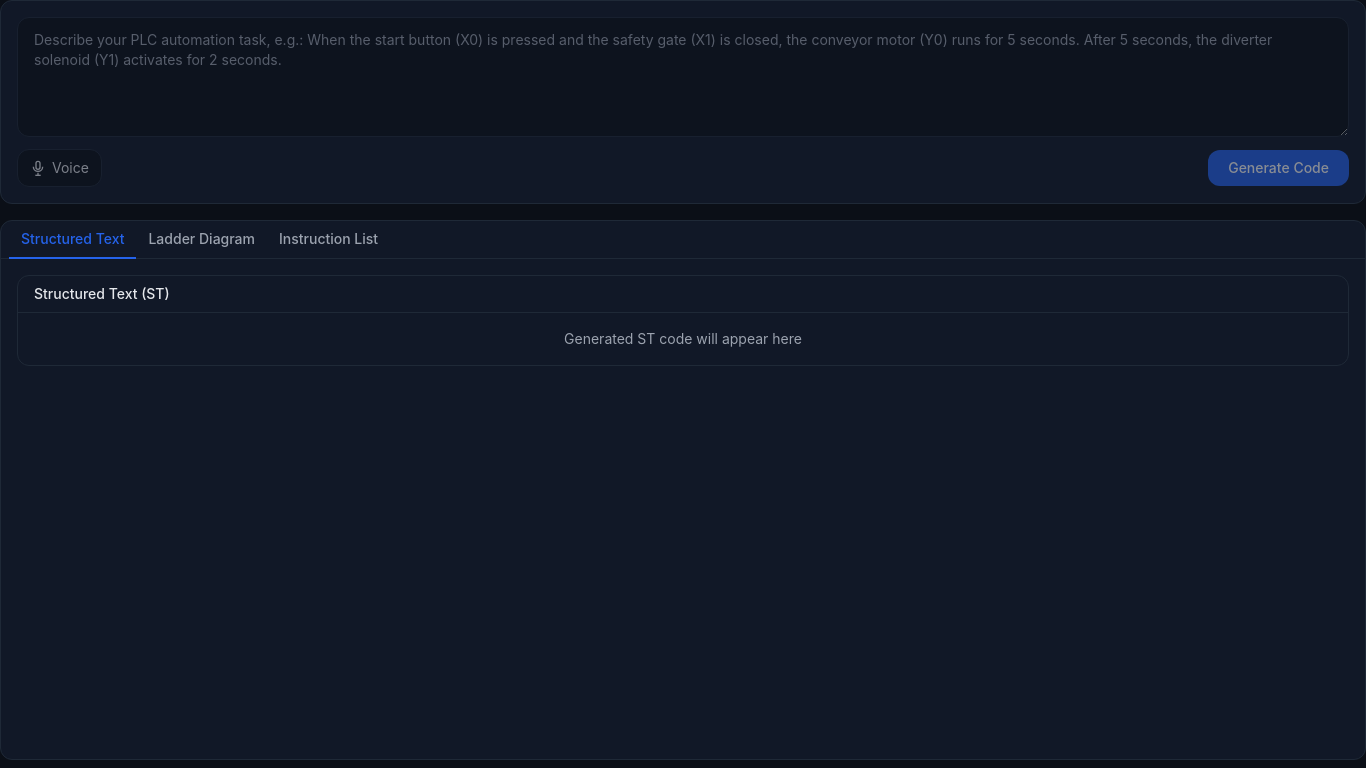
it: CodeGenerationPanel — Tabs + Maximize modal (M10.2.1) › Maximize modal › closes when the Close button is clicked
Click the tab with test id "tab-ld" at (202, 240), box 136,221 -> 267,259
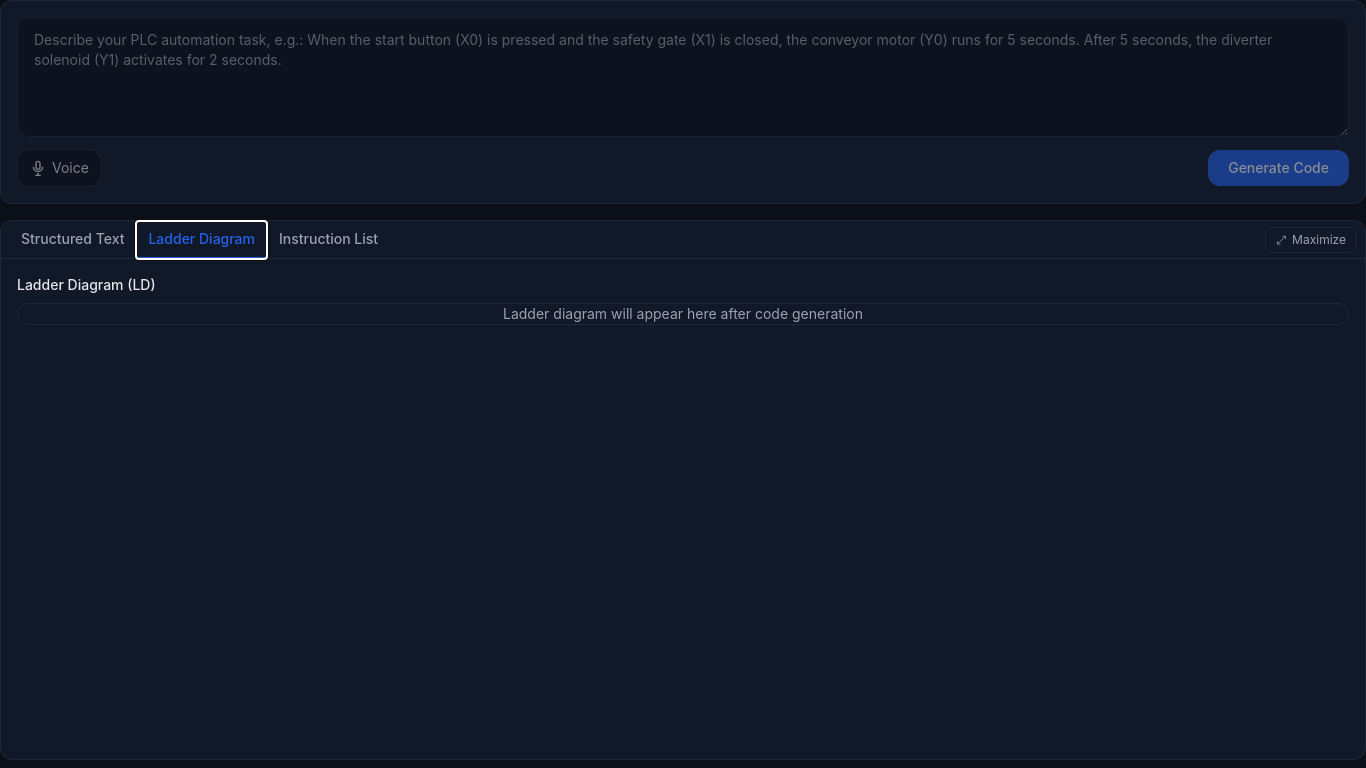
Click the button with test id "maximize-ld-button" at (1311, 240), box 1266,226 -> 1357,252
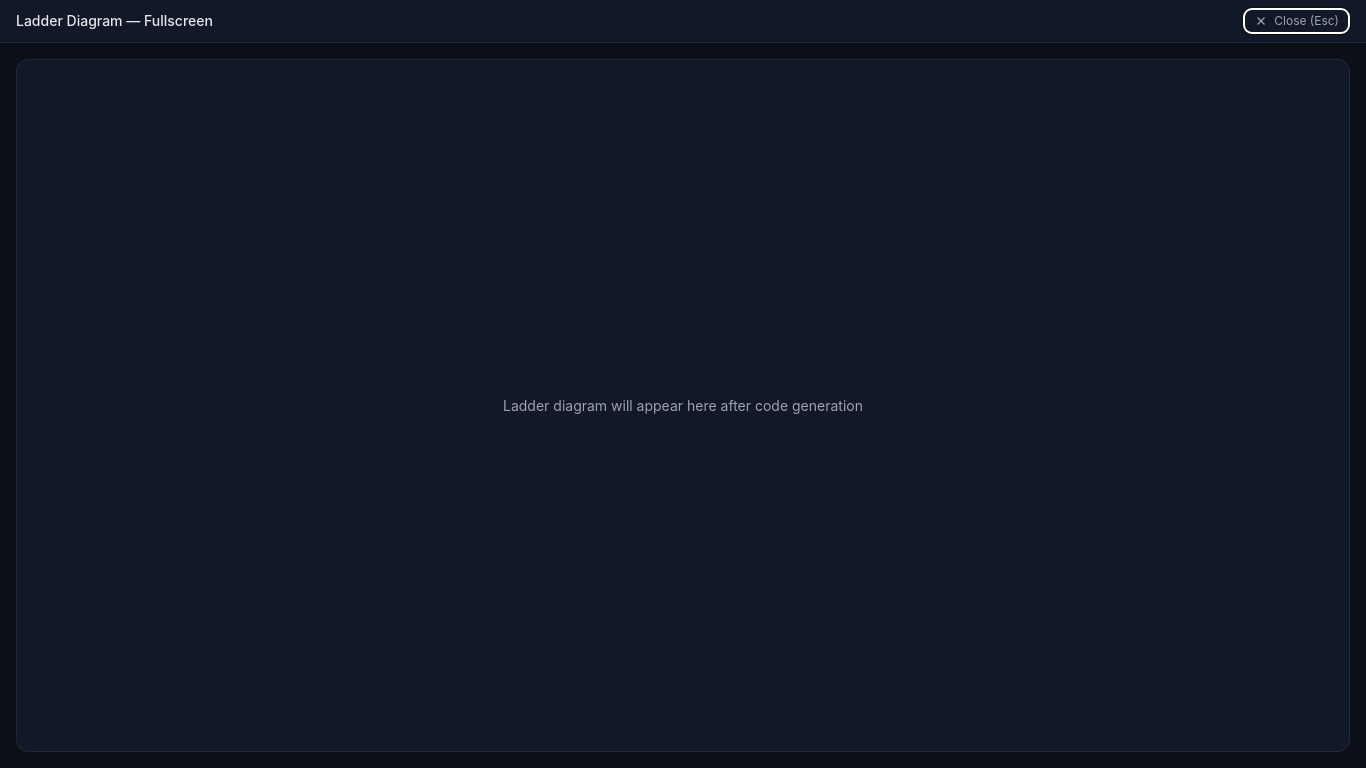
Now the dialog with test id "ld-maximized-modal" is shown
Click the button with test id "ld-modal-close" at (1297, 21), box 1243,8 -> 1350,34
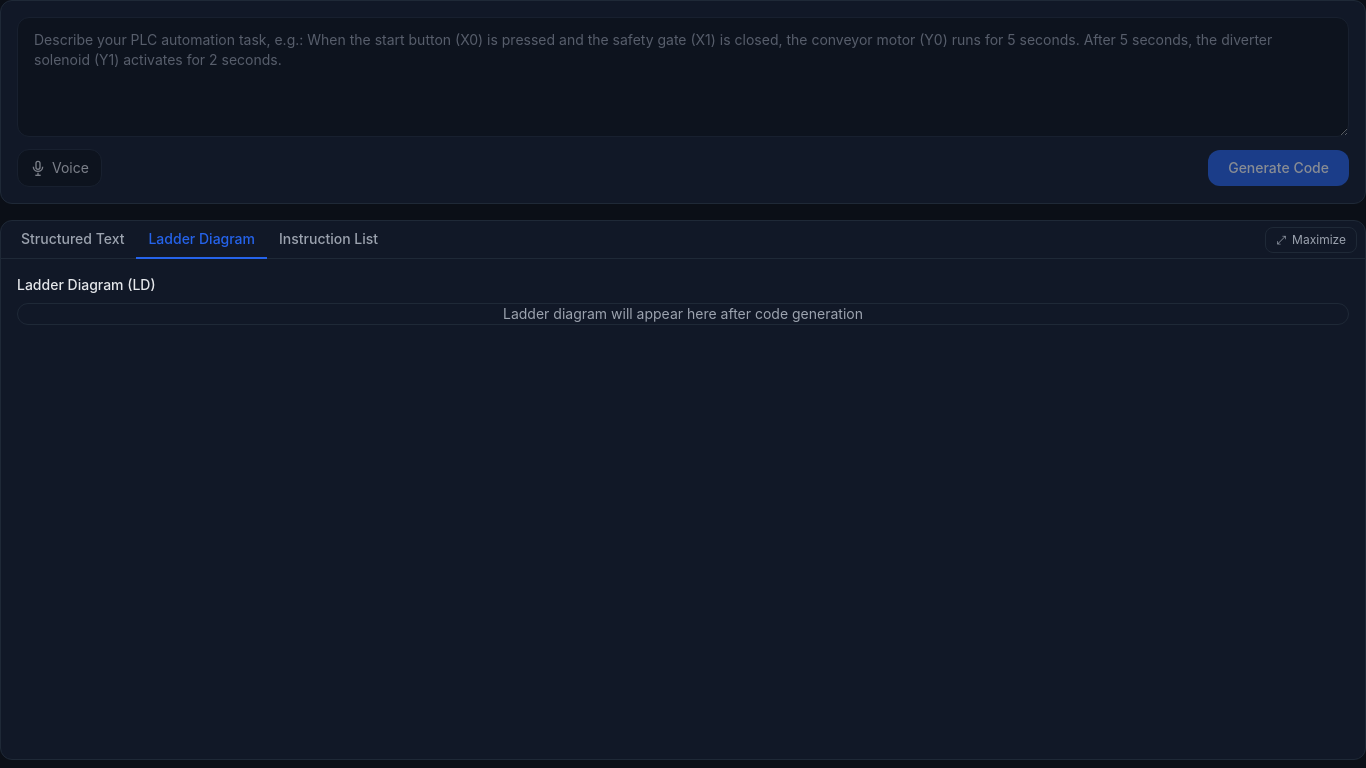
Now the dialog with test id "ld-maximized-modal" is gone
